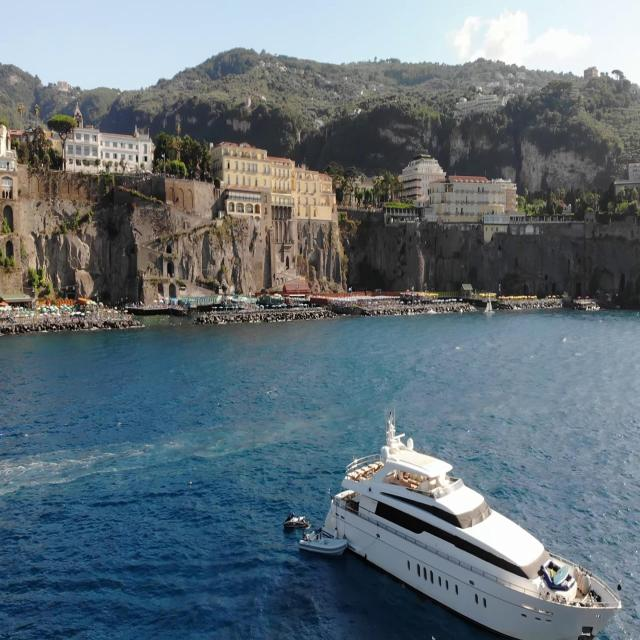boat: (320, 420, 622, 640), (299, 524, 347, 555), (284, 508, 306, 530)
